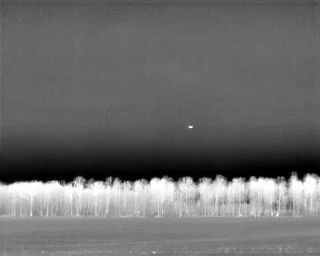DRONE: (186, 121, 196, 132)
